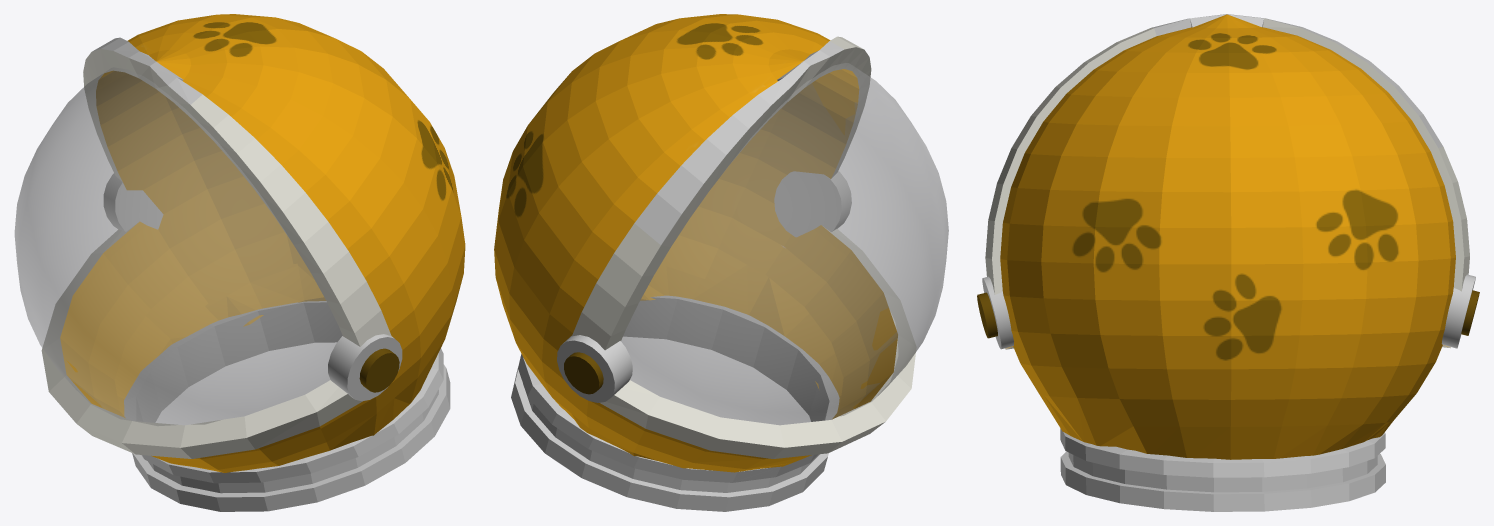
The model's file is corrected ast helmet.fbx.
3 renders of one model, left to right at view 1: azimuth 30°, elevation 25°; view 2: azimuth 150°, elevation 25°; view 3: azimuth 270°, elevation 25°, orthographic.
Visible parts, largest first — view 1: pSphere2, pSphere3, pPipe1, pCylinder1, pCylinder2, pCylinder4; view 2: pSphere2, pSphere3, pPipe1, pCylinder1, pCylinder2, pCylinder3; view 3: pSphere2, pPipe1, pCylinder2, pCylinder1, pCylinder4.
Part boxes in pixels (x1,y1,x2,y2): pSphere2: (41,14,465,472); pSphere3: (14,67,342,425); pPipe1: (124,301,450,511); pCylinder1: (328,334,402,401); pCylinder2: (104,173,163,231); pCylinder4: (359,348,399,392); pSphere2: (494,14,916,472); pSphere3: (621,63,948,425); pPipe1: (511,296,839,511); pCylinder1: (774,171,851,236); pCylinder2: (557,335,632,402); pCylinder3: (564,352,603,394); pSphere2: (985,14,1469,459); pPipe1: (1060,428,1385,511); pCylinder2: (1441,274,1475,348); pCylinder1: (982,276,1013,349); pCylinder4: (977,292,997,338).
Bounding box in the file's own units: 5.51 × 5.79 × 6.02.
